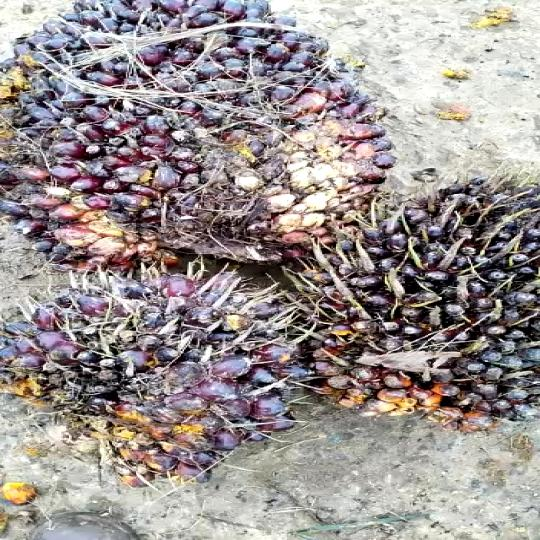kurang masak: (0, 0, 395, 259), (266, 167, 540, 449), (0, 259, 296, 490), (274, 164, 540, 420)
